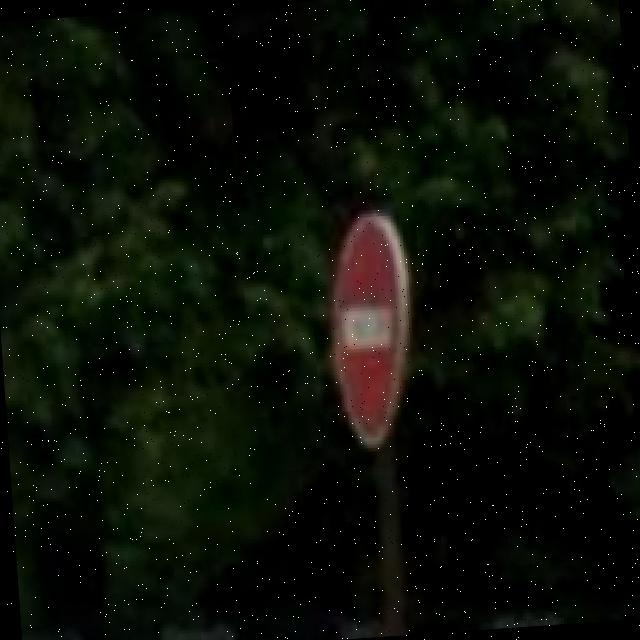Zakaz wjazdu: (320, 211, 423, 450)
